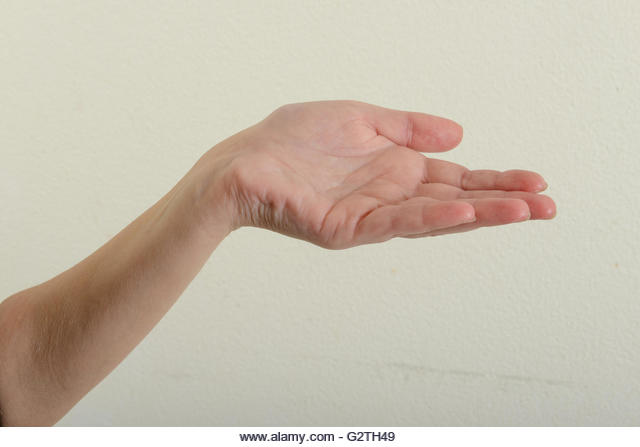hand: (167, 72, 581, 303)
